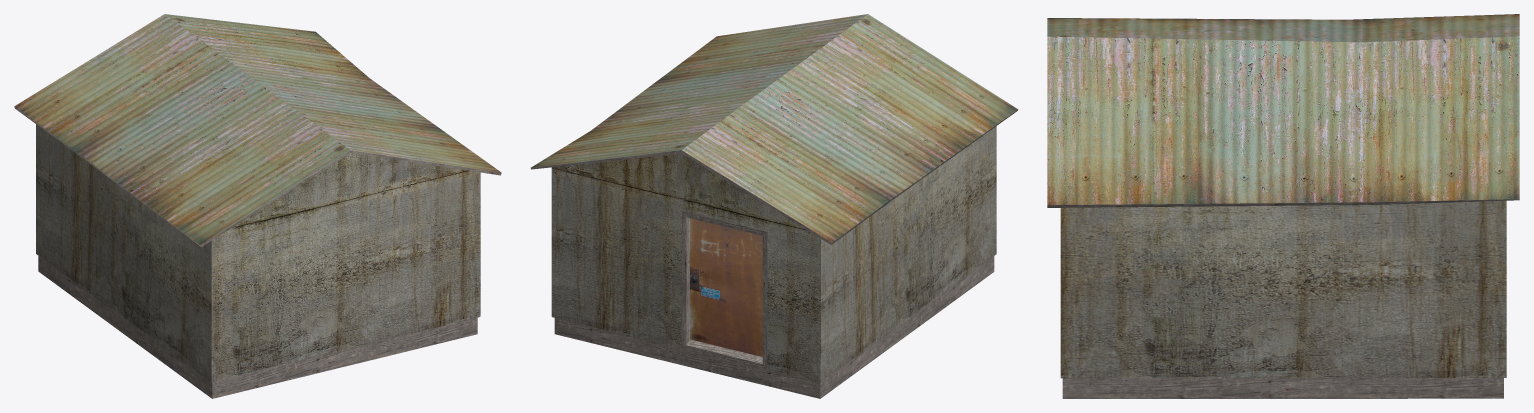
Rendered from building_9_lod1.DAE.
3 renders of one model, left to right at view 1: azimuth 30°, elevation 25°; view 2: azimuth 150°, elevation 25°; view 3: azimuth 270°, elevation 25°, orthographic. The views are drawn at different scales.
Parts seen in each view (by area): view 1: Mesh_Object; view 2: Mesh_Object; view 3: Mesh_Object.
Boxes of the visible parts, x1,y1,x2,y2 form: Mesh_Object: [14, 14, 501, 398]; Mesh_Object: [530, 14, 1018, 398]; Mesh_Object: [1047, 14, 1519, 398].
Bounding box in the file's own units: 5.26 × 3.68 × 5.63.
